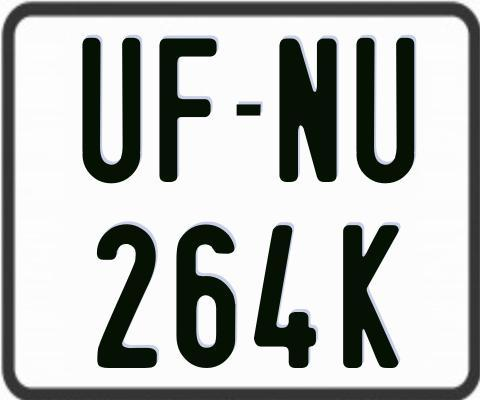2: (96, 223, 158, 367)
4: (253, 222, 320, 370)
6: (176, 221, 237, 365)
F: (159, 35, 222, 181)
K: (342, 223, 400, 367)
N: (278, 38, 340, 188)
U: (354, 35, 415, 185), (79, 37, 142, 182)
